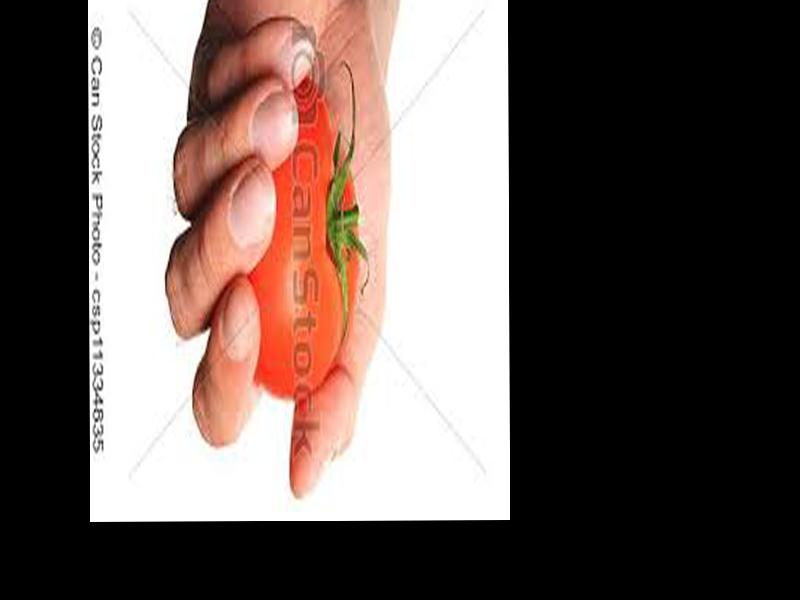Tomato: (250, 80, 357, 399)
